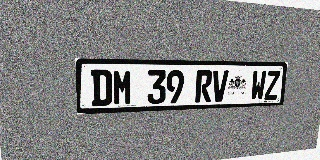3: (147, 70, 166, 104)
9: (166, 70, 184, 104)
D: (91, 69, 112, 106)
M: (113, 70, 132, 106)
R: (195, 70, 213, 103)
V: (211, 70, 229, 102)
W: (250, 70, 267, 100)
Z: (264, 71, 280, 100)
